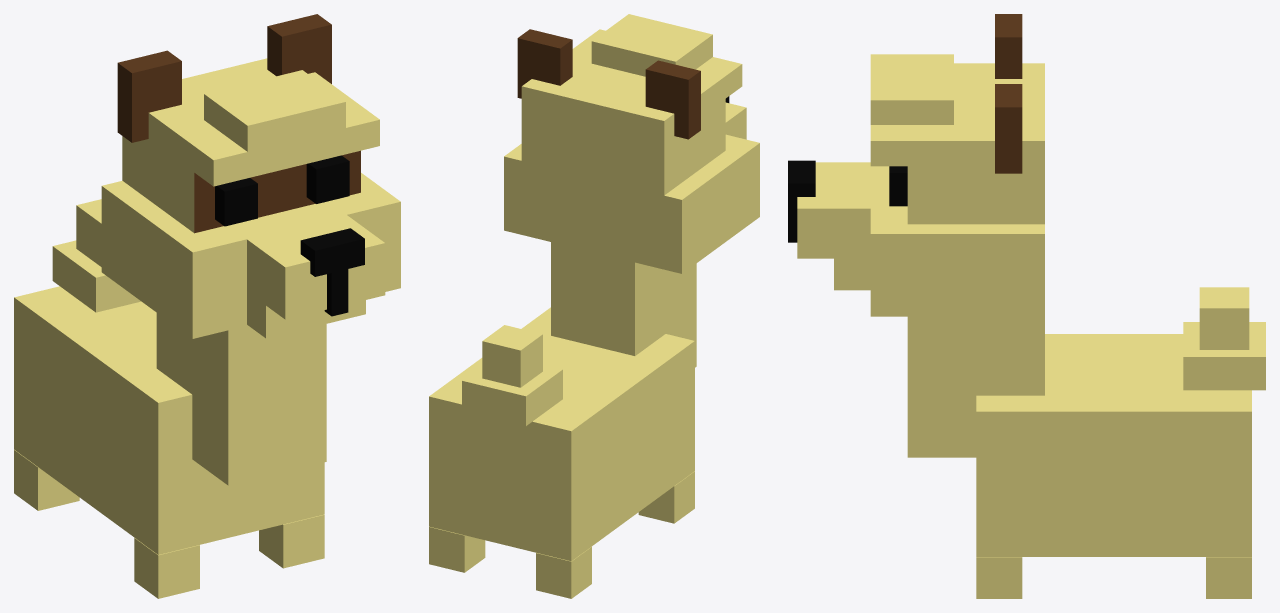
The model's file is alpaca.FBX.
3 views of the same model, side by side, from view 1: azimuth 30°, elevation 25°; view 2: azimuth 150°, elevation 25°; view 3: azimuth 270°, elevation 25° (orthographic). The views are drawn at different scales.
Visible parts, largest first — view 1: alpaca_head, alpaca_body, alpaca_nose, alpaca_tail, alpaca_ear_R, alpaca_eyes, alpaca_ear_L, alpaca_paw_R, alpaca_paw_L, alpaca_backpaw_R; view 2: alpaca_head, alpaca_body, alpaca_tail, alpaca_ear_R, alpaca_ear_L, alpaca_backpaw_R, alpaca_backpaw_L, alpaca_paw_R, alpaca_nose; view 3: alpaca_head, alpaca_body, alpaca_nose, alpaca_tail, alpaca_ear_L, alpaca_paw_L, alpaca_backpaw_L, alpaca_ear_R, alpaca_eyes.
Boxes of the visible parts, <box> form: alpaca_head: <box>101,58,400,485</box>; alpaca_body: <box>14,286,324,554</box>; alpaca_nose: <box>247,215,385,338</box>; alpaca_tail: <box>52,199,141,312</box>; alpaca_ear_R: <box>117,50,181,142</box>; alpaca_eyes: <box>215,155,349,226</box>; alpaca_ear_L: <box>267,14,331,83</box>; alpaca_paw_R: <box>134,538,199,598</box>; alpaca_paw_L: <box>259,514,324,568</box>; alpaca_backpaw_R: <box>14,450,79,510</box>; alpaca_head: <box>504,14,759,367</box>; alpaca_body: <box>429,307,694,561</box>; alpaca_tail: <box>462,325,562,425</box>; alpaca_ear_R: <box>645,60,700,139</box>; alpaca_ear_L: <box>517,29,572,98</box>; alpaca_backpaw_R: <box>536,546,591,598</box>; alpaca_backpaw_L: <box>429,526,485,572</box>; alpaca_paw_R: <box>638,471,694,523</box>; alpaca_nose: <box>725,96,746,139</box>; alpaca_head: <box>870,54,1044,457</box>; alpaca_body: <box>976,334,1251,556</box>; alpaca_nose: <box>788,160,870,290</box>; alpaca_tail: <box>1183,287,1265,390</box>; alpaca_ear_L: <box>995,84,1022,173</box>; alpaca_paw_L: <box>976,557,1022,598</box>; alpaca_backpaw_L: <box>1206,557,1251,598</box>; alpaca_ear_R: <box>995,14,1022,78</box>; alpaca_eyes: <box>889,166,907,206</box>.
Size of the model in its own units: 50 by 120 by 104.
